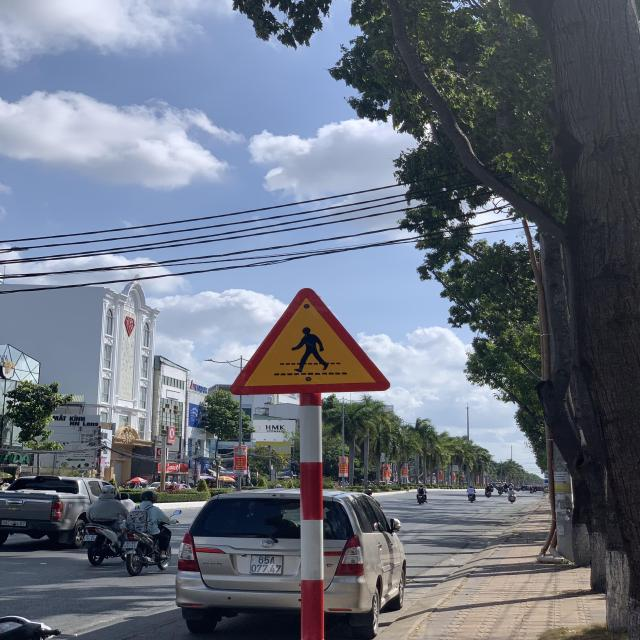Duong_Nguoi_Di_Bo_Sang_Ngang: (230, 288, 392, 394)
